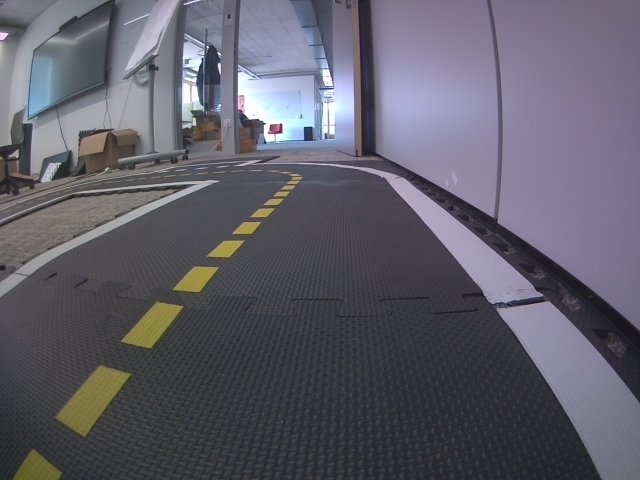freeSpot: (158, 160, 262, 173)
